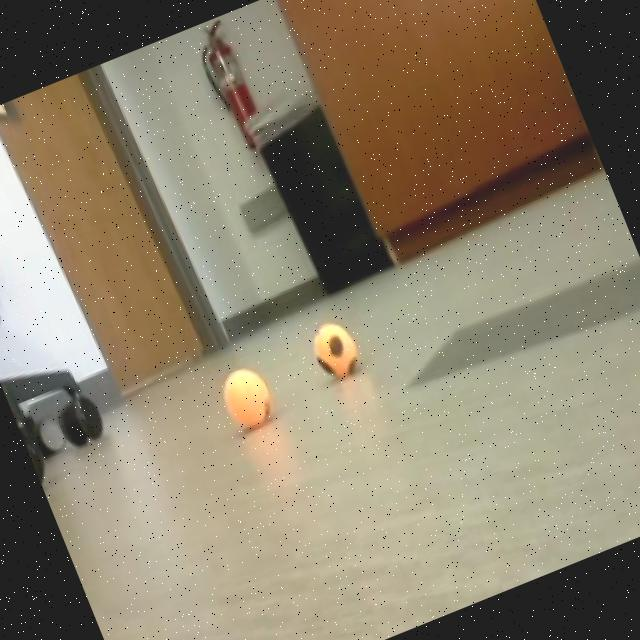ping-pong-ball: (210, 352, 289, 446), (299, 306, 377, 395)
